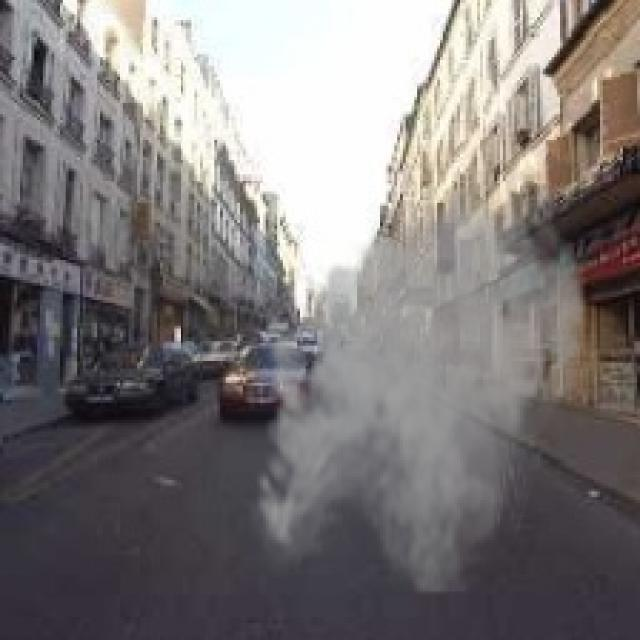Smoke: (246, 172, 594, 597)
